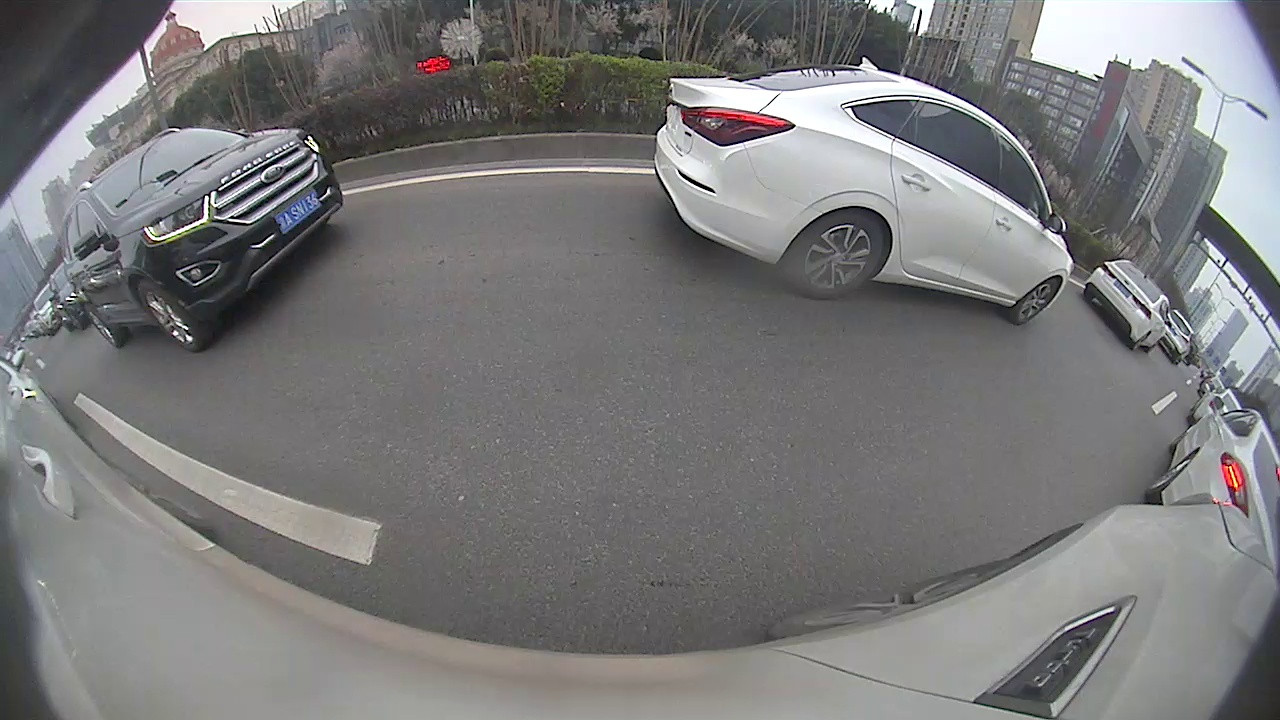car: (651, 58, 1078, 328), (58, 125, 344, 353), (1143, 397, 1278, 565), (1082, 260, 1174, 357)
front: (137, 281, 209, 354), (1014, 275, 1061, 326)
rear: (789, 212, 884, 300), (86, 305, 119, 349)
